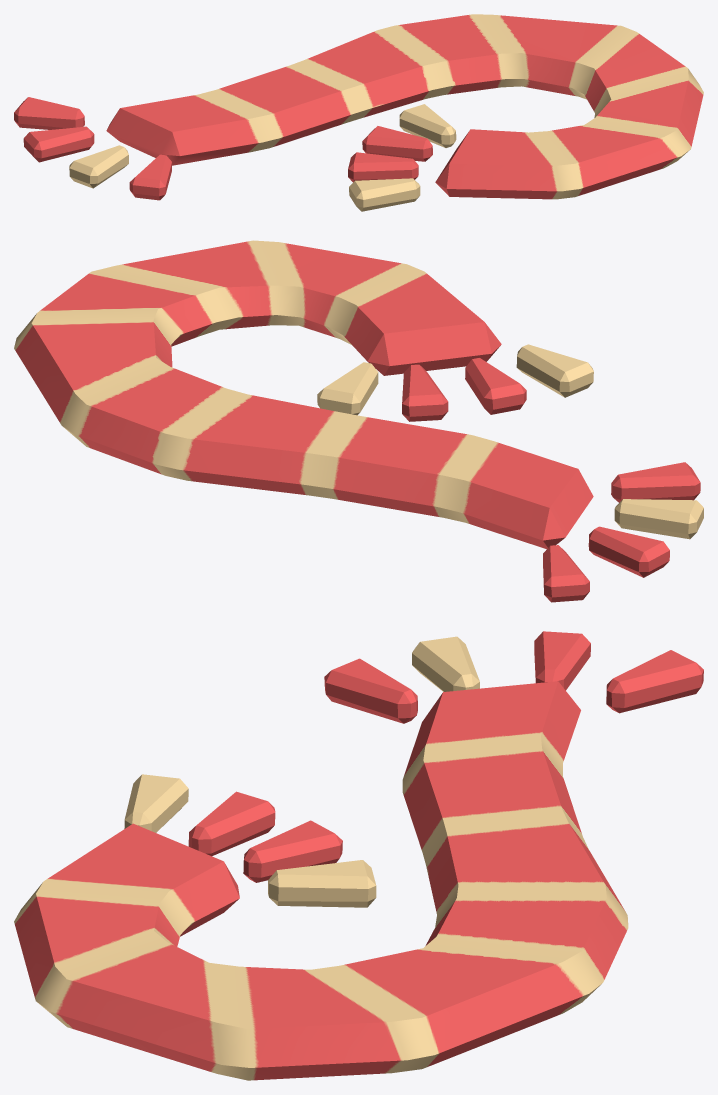
The model's file is LI_Scarf_Mesh_01.fbx.
3 renders of one model, top to bottom at view 1: azimuth 30°, elevation 25°; view 2: azimuth 150°, elevation 25°; view 3: azimuth 270°, elevation 25°, orthographic. The views are drawn at different scales.
Parts seen in each view (by area): view 1: LI_Scarf_01; view 2: LI_Scarf_01; view 3: LI_Scarf_01.
Part boxes in pixels (left/top/right/bottom): LI_Scarf_01: left=14, top=14, right=703, bottom=211; LI_Scarf_01: left=14, top=240, right=703, bottom=602; LI_Scarf_01: left=14, top=631, right=703, bottom=1080.
Bounding box in the file's own units: 1.01 × 0.0623 × 0.6906.
